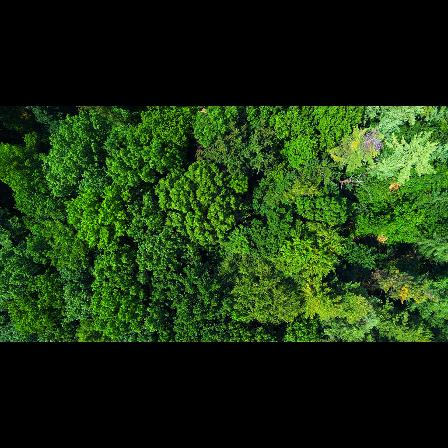Dead: (332, 173, 375, 197)
